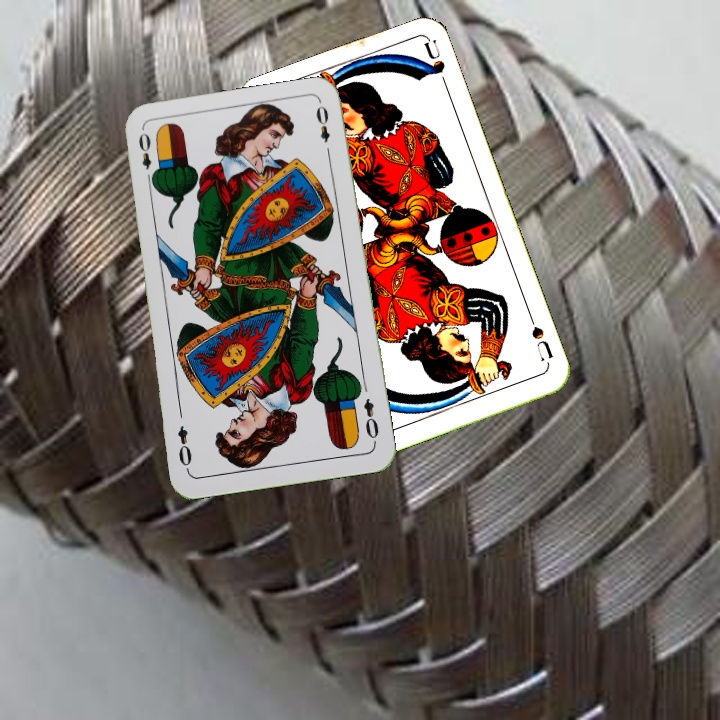EO: (134, 129, 159, 186), (360, 394, 382, 446)
SU: (525, 311, 556, 368)
